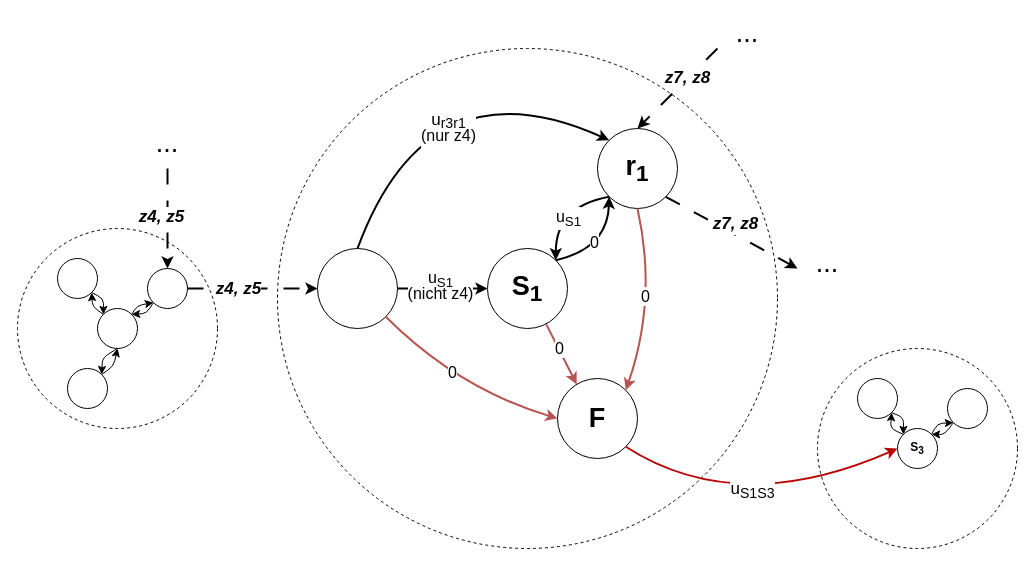
The diagram is 1035 pixels wide and 566 high, and some of its shapes have lost their labels. Here are the shapes that lost their labels. From the top down, the centre of each, then its label:
At [357,288]: "r 3".
At [117,328]: "S 2".
